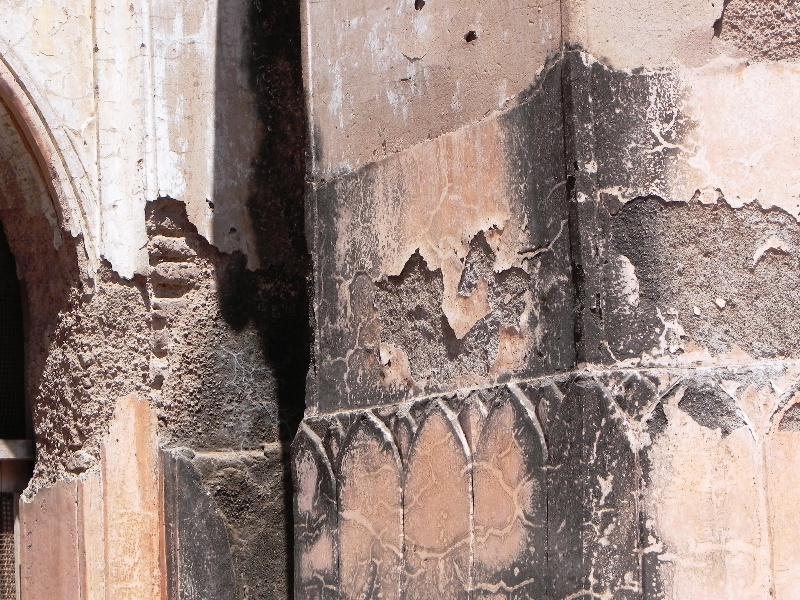Exposed Bricks: (146, 194, 193, 387)
Spalling: (6, 206, 142, 485), (610, 187, 799, 360), (376, 231, 527, 385)
